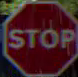Stop: (3, 1, 77, 76)
